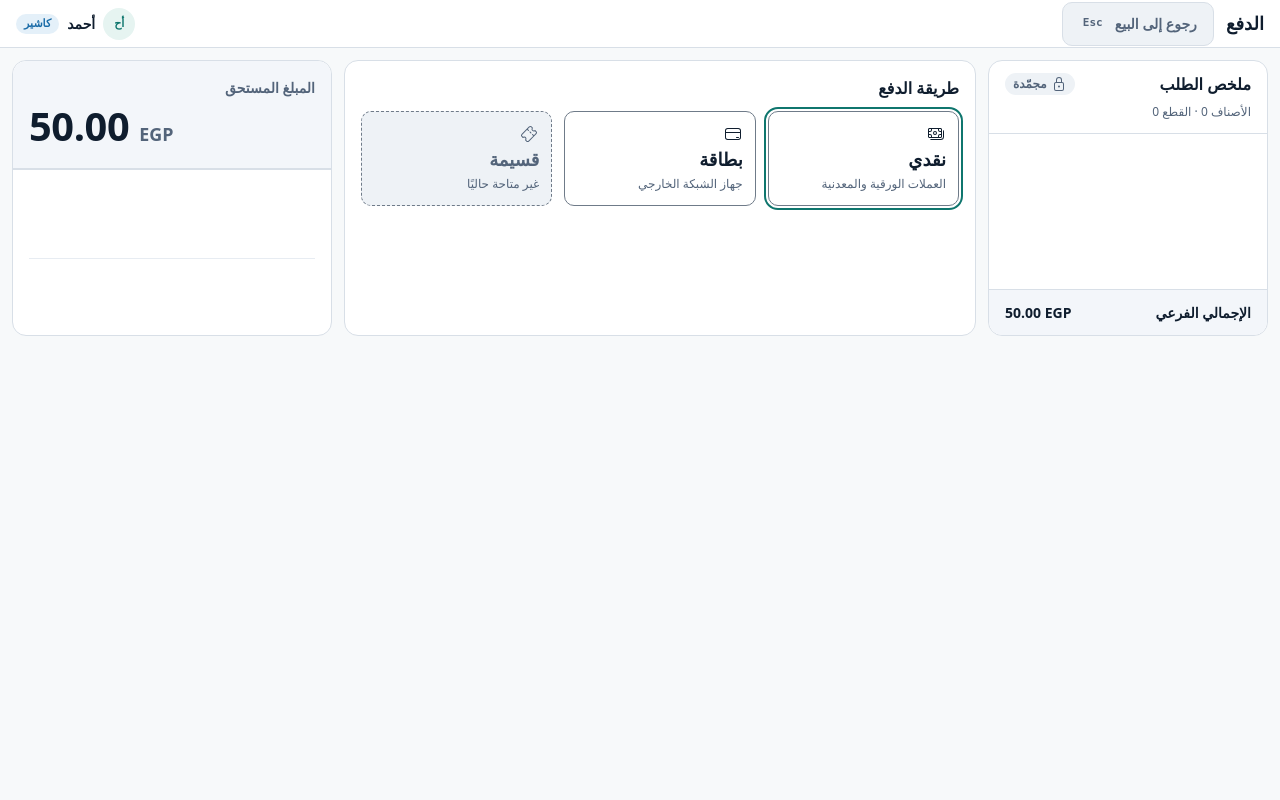
it: RT-256 — card cancel requires a terminal void before another charge (M-P13) › stays on Completion after another tender settles the sale (Codex P1)
Click the radio button with test id "tender-cash" at (863, 158), box [768,111,959,206]
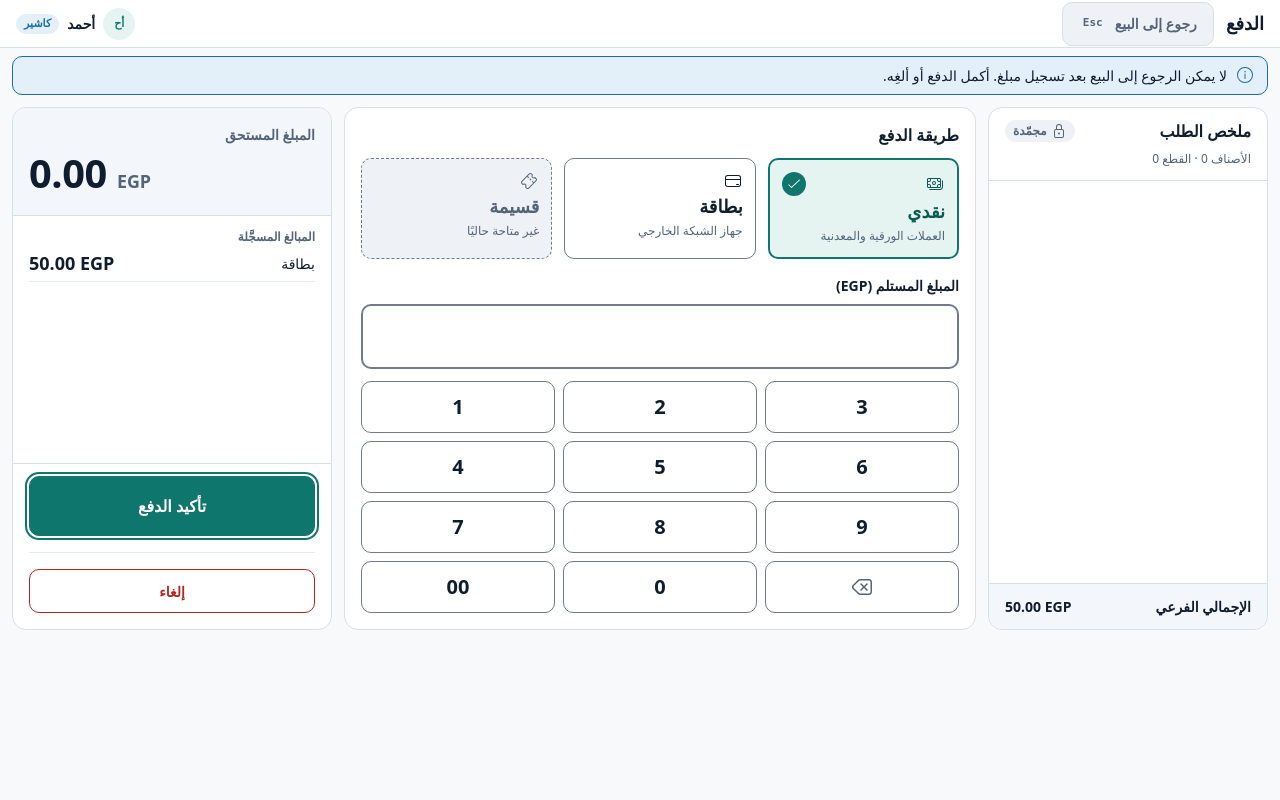
Click the button with test id "payment-surface-cancel" at (172, 591), box [29,569,315,613]
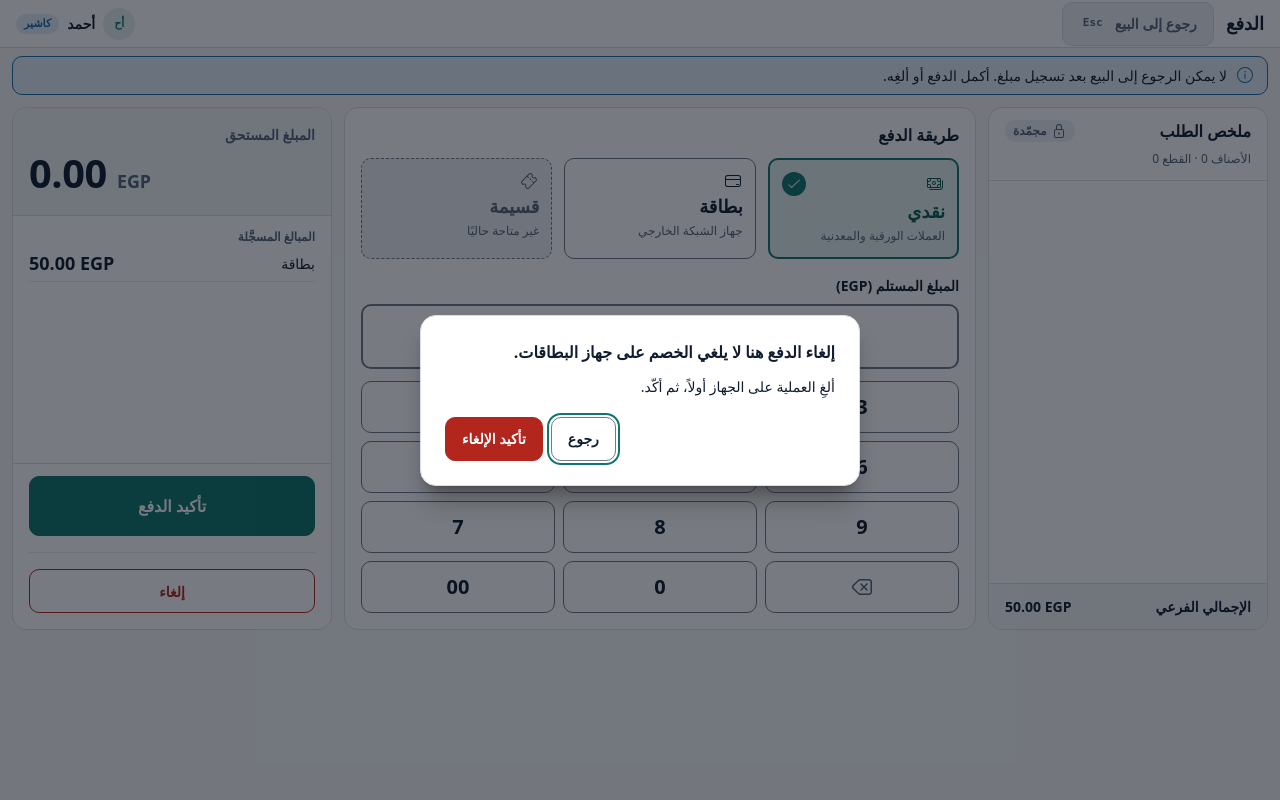
Click the button "تأكيد الإلغاء" at (494, 438), box [445,416,543,460]
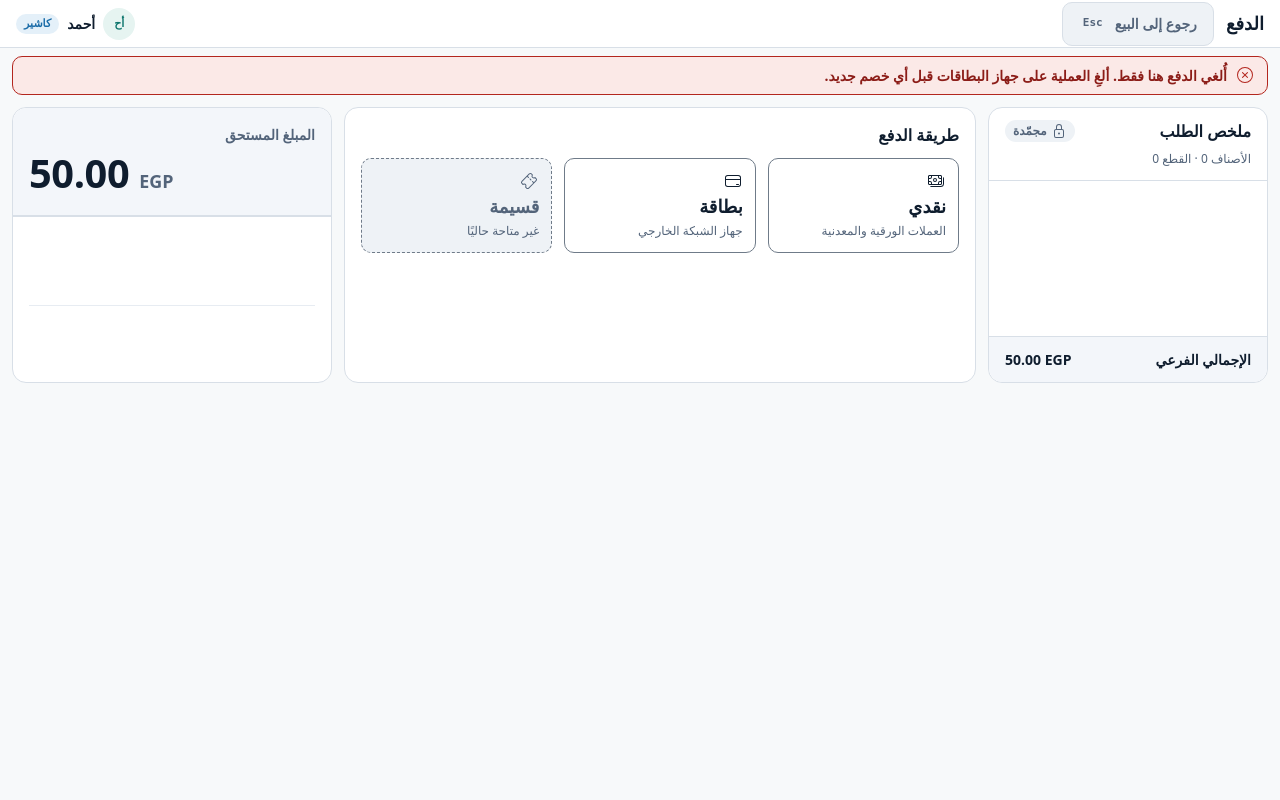
Click the radio button with test id "tender-cash" at (863, 206), box [768,158,959,253]
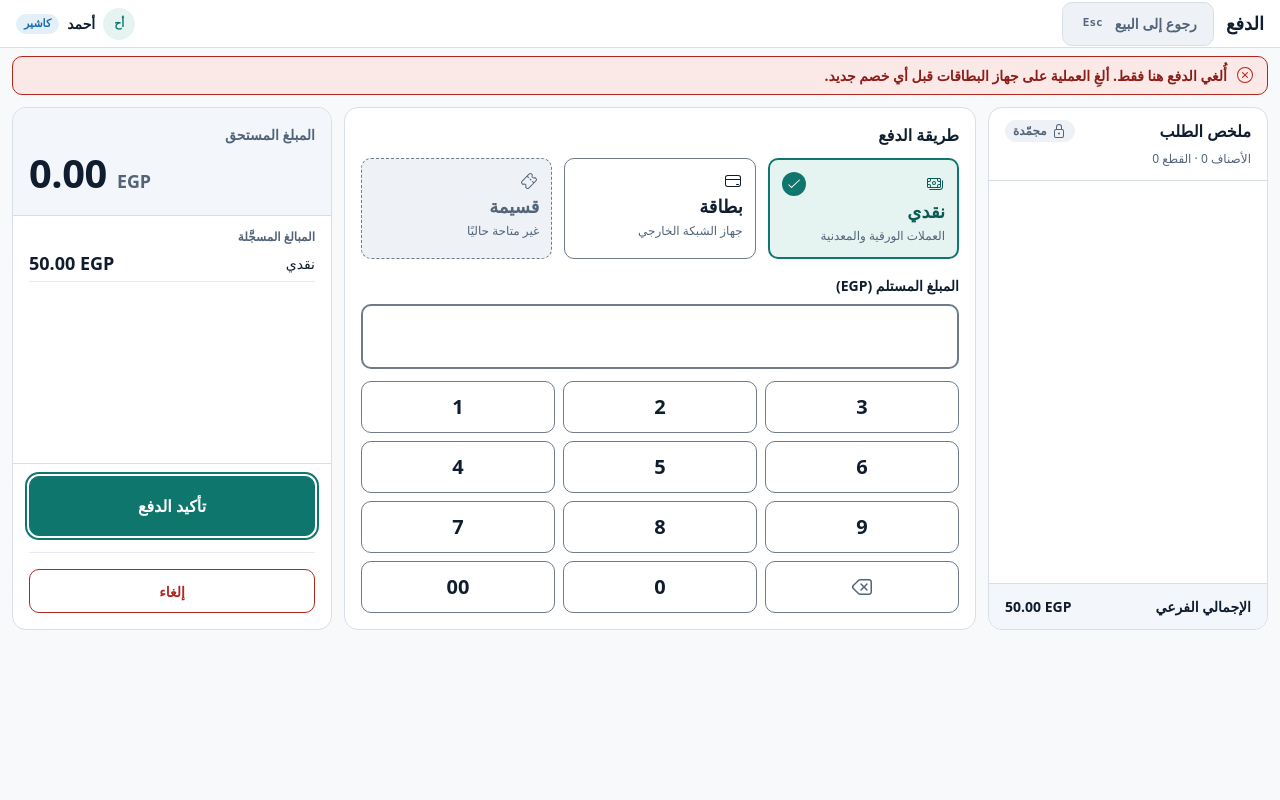
Click the button with test id "payment-surface-confirm" at (172, 506), box [29,476,315,536]
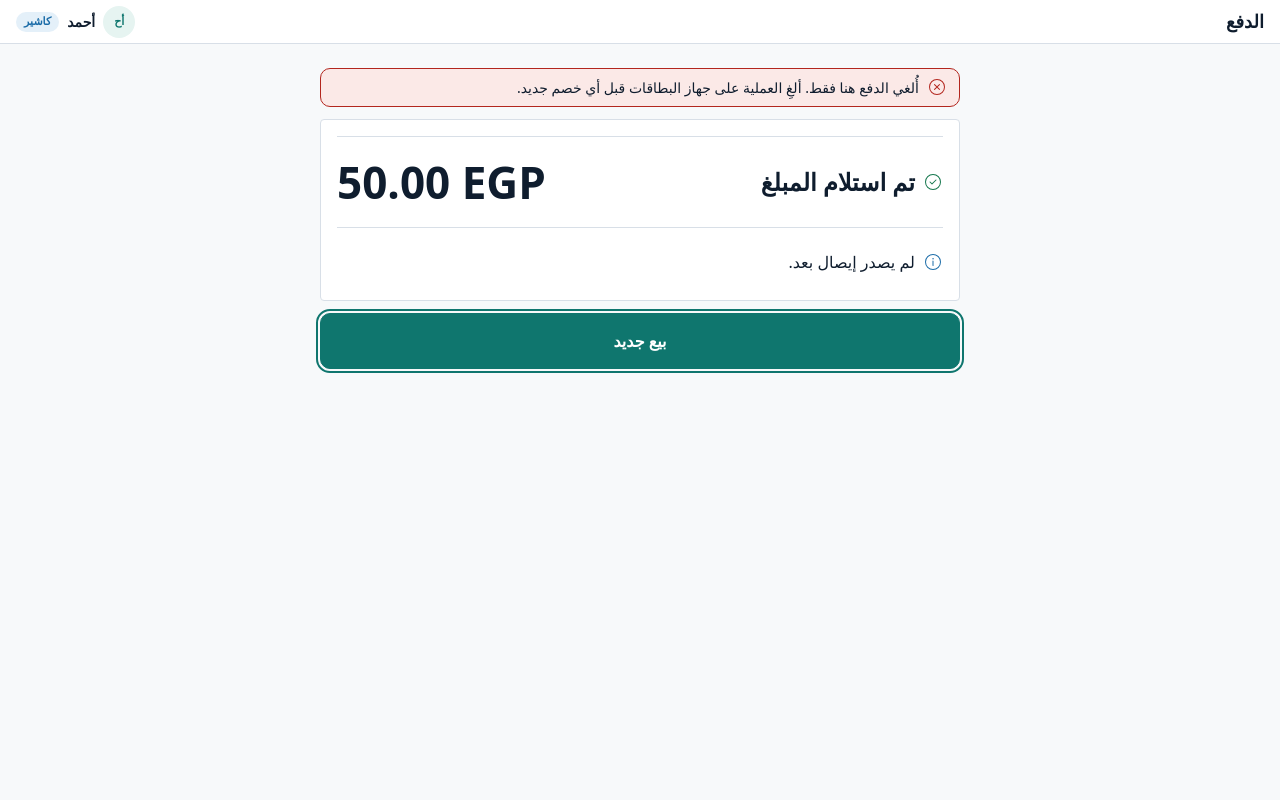
Check: the message with test id "payment-surface-settled-card-void" reads "أُلغي الدفع هنا فقط. ألغِ العملية على جهاز البطاقات قبل أي خصم جديد.", box [517,78,919,97]
Check: the element with test id "payment-surface-settled" is shown, box [320,119,960,301]
